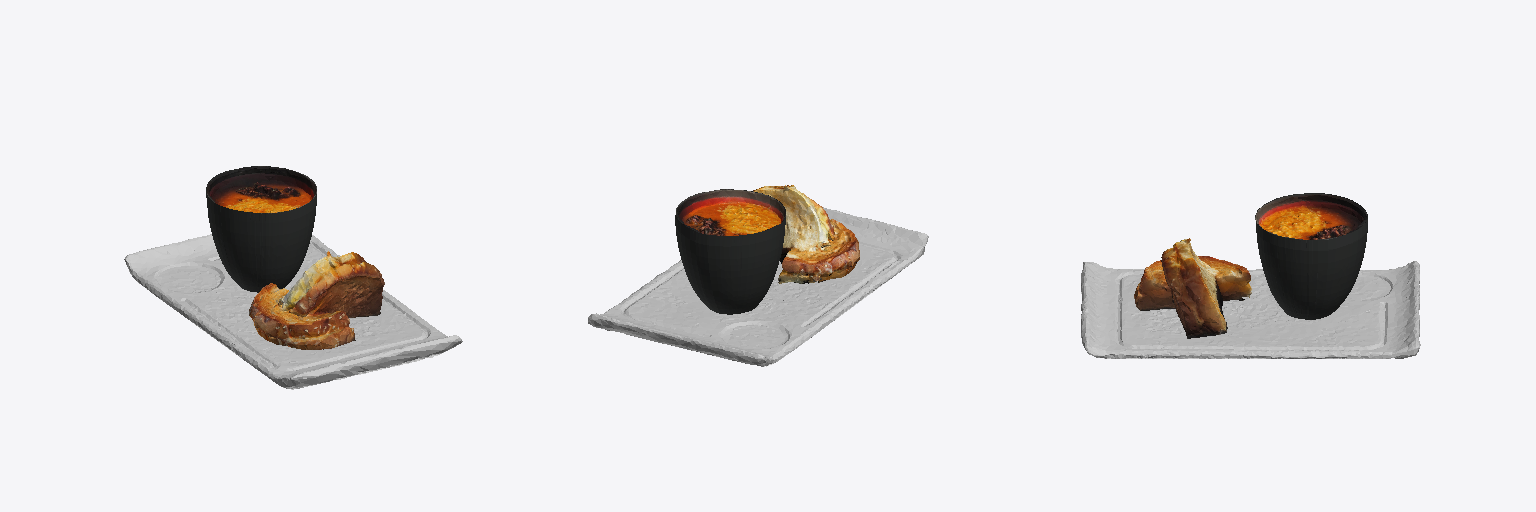
3 views of the same model, side by side, from view 1: azimuth 30°, elevation 25°; view 2: azimuth 150°, elevation 25°; view 3: azimuth 270°, elevation 25° (orthographic).
Visible parts, largest first — view 1: mmGroup0; view 2: mmGroup0; view 3: mmGroup0.
Boxes of the visible parts, x1=… form: mmGroup0: x1=124, y1=166, x2=462, y2=389; mmGroup0: x1=588, y1=185, x2=928, y2=366; mmGroup0: x1=1081, y1=193, x2=1420, y2=358.
Size of the model in its own units: 0.2302 by 0.0981 by 0.352.
4 materials, 3 textured.